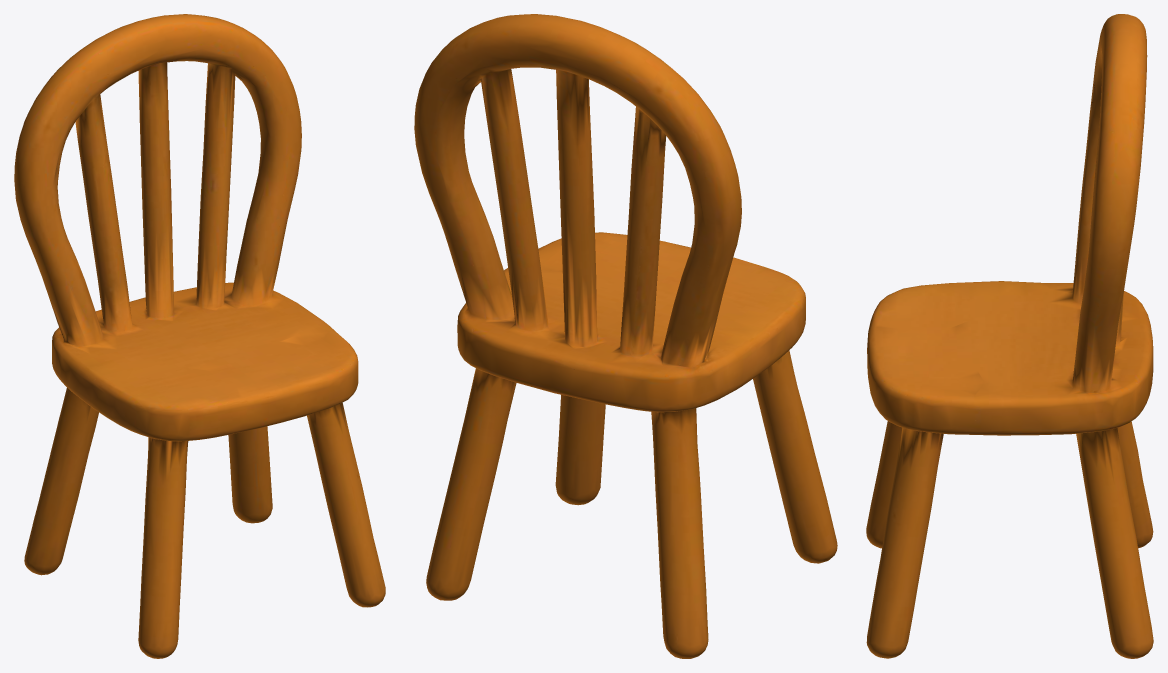
The model's file is chair_spindle.glb.
The picture shows the model from 3 angles, left to right: view 1: azimuth 30°, elevation 25°; view 2: azimuth 150°, elevation 25°; view 3: azimuth 270°, elevation 25°; orthographic projection. The views are drawn at different scales.
Visible parts, largest first — view 1: chair_spindle; view 2: chair_spindle; view 3: chair_spindle.
Part boxes in pixels (x1,y1,x2,y2): chair_spindle: (14, 14, 385, 658); chair_spindle: (414, 14, 837, 658); chair_spindle: (866, 14, 1153, 658).
Bounding box in the file's own units: 0.5253 × 0.9501 × 0.4359.
Materials: 1 (1 with a texture image).
